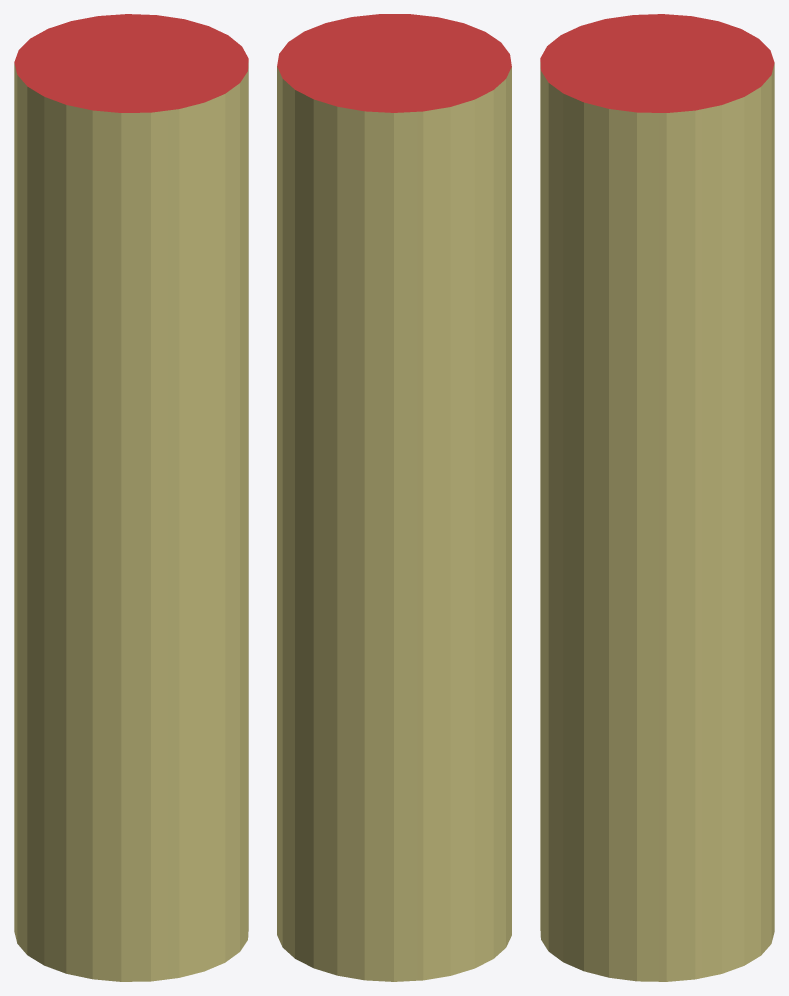
3 renders of one model, left to right at view 1: azimuth 30°, elevation 25°; view 2: azimuth 150°, elevation 25°; view 3: azimuth 270°, elevation 25°, orthographic.
Bounding box in the file's own units: 2.69 × 2.69 × 11.
